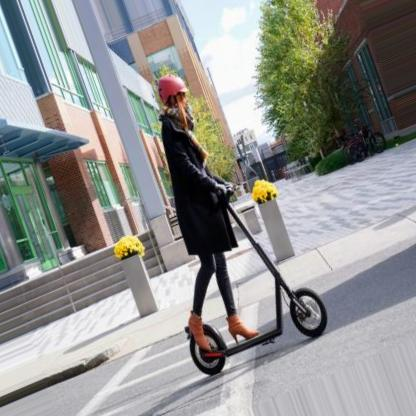scooter: (184, 183, 327, 377)
with helmet: (158, 74, 188, 115)
